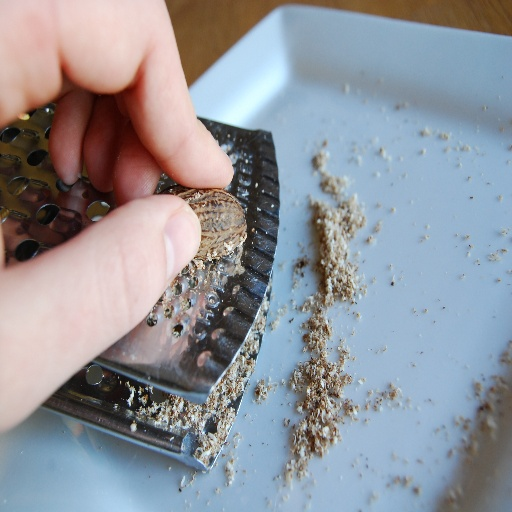hand: (0, 0, 232, 434)
